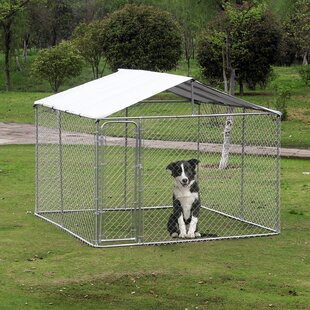dog: (163, 154, 222, 242)
